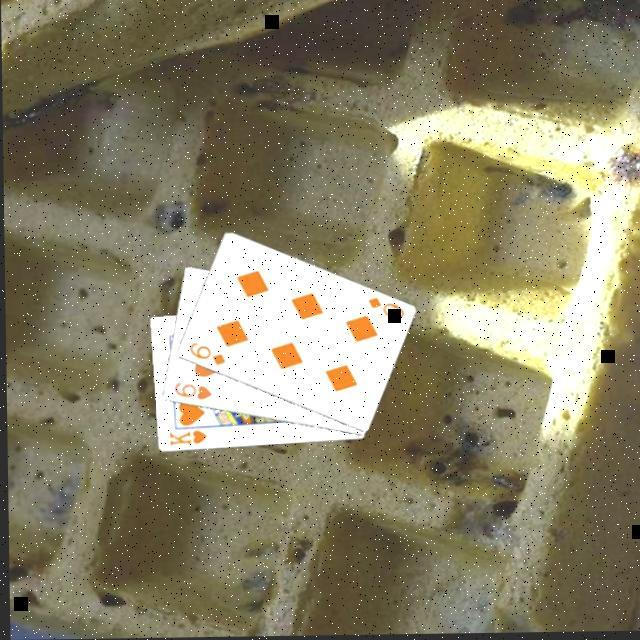6D: (183, 341, 224, 371), (361, 298, 403, 326)
6H: (167, 382, 211, 406)
KH: (162, 429, 206, 452)
